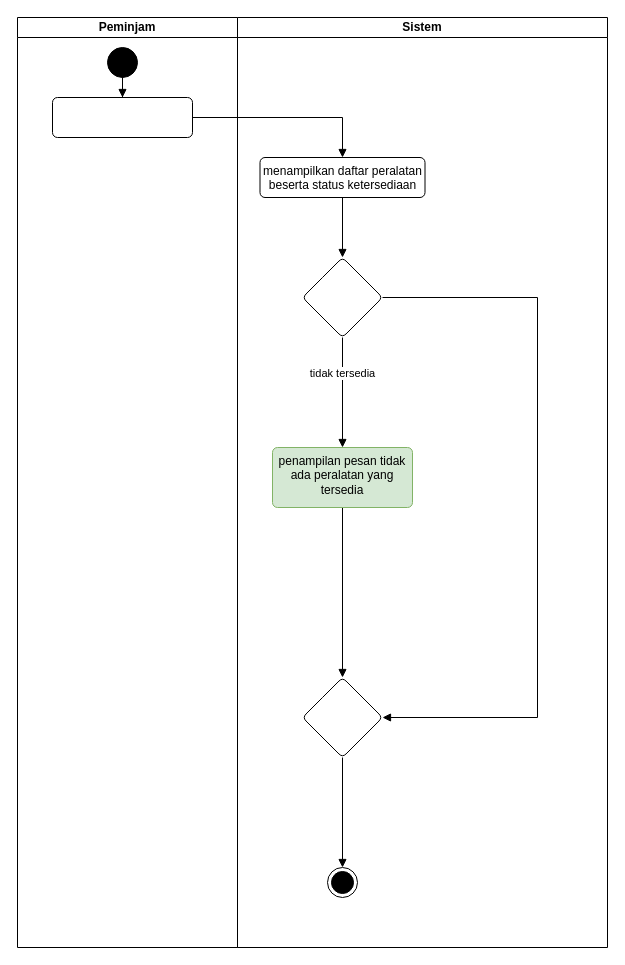
Some shapes in this 625 by 965 pixel diagram are drawn without their labels. The shapes that lost their labels are listed below. From the top down, each one's box as (x1, y1, x2, y2) in pixels, then its label:
(52, 96, 192, 138): membuka fungsi lihat ketersediaan
(302, 256, 382, 338): peralatan tersedia?
